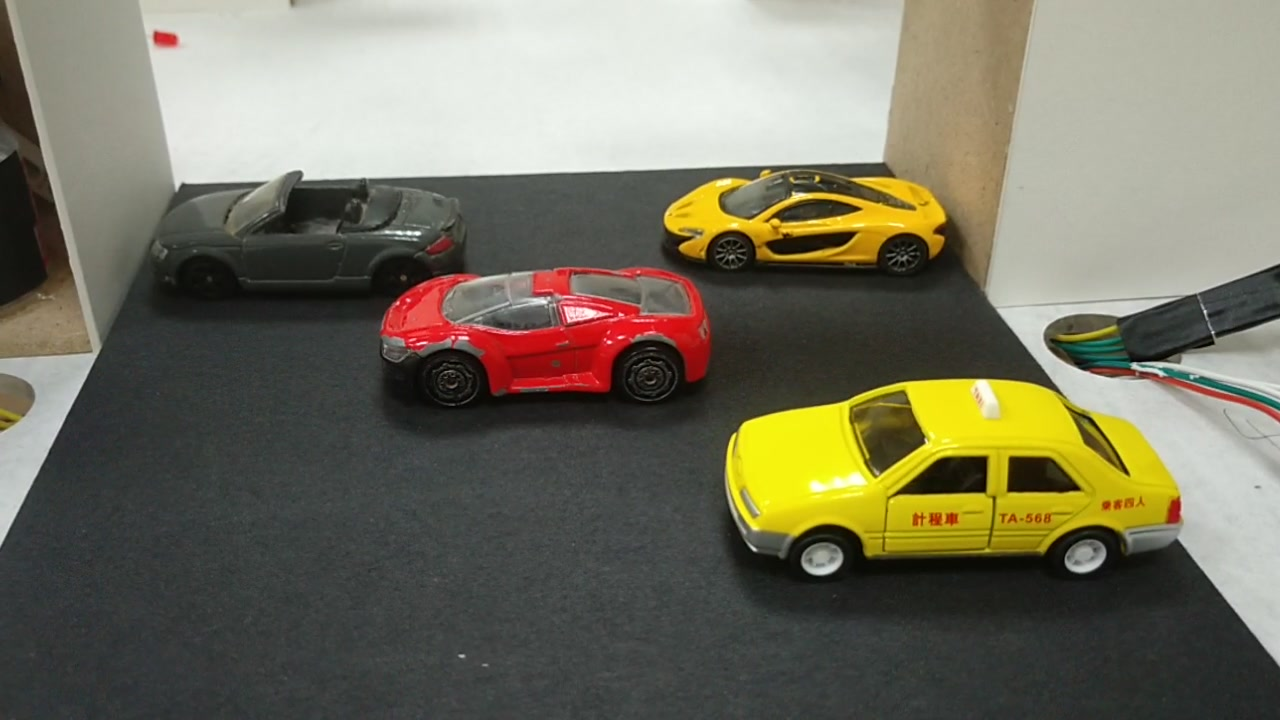car: (720, 381, 1179, 579), (378, 274, 713, 411), (156, 185, 462, 287), (654, 174, 950, 275)
